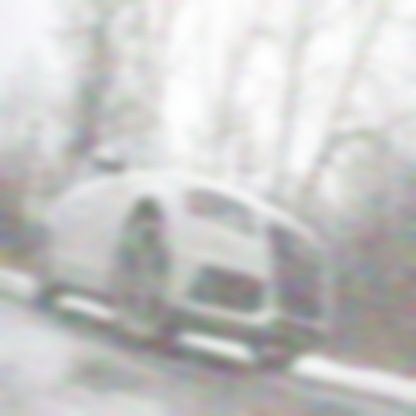Vehicle: (34, 132, 334, 376)
